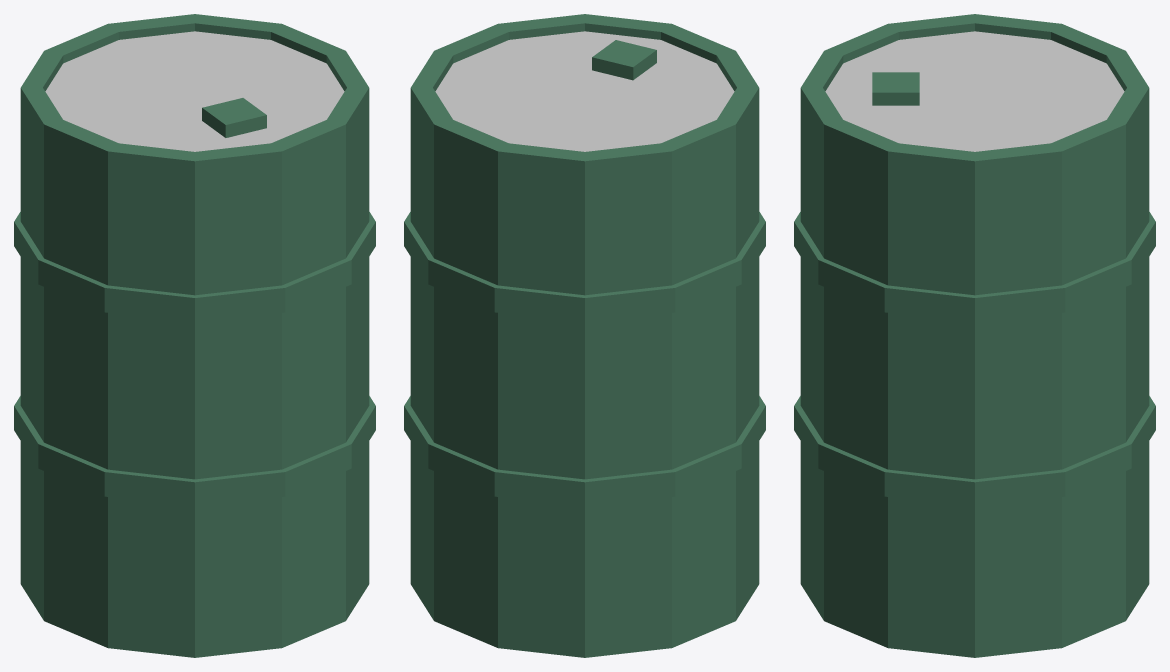
File: Barrel_03.glb
3 renders of one model, left to right at view 1: azimuth 30°, elevation 25°; view 2: azimuth 150°, elevation 25°; view 3: azimuth 270°, elevation 25°, orthographic.
Visible parts, largest first — view 1: Barrel_3_mesh; view 2: Barrel_3_mesh; view 3: Barrel_3_mesh.
Part boxes in pixels (left/top/right/bottom): Barrel_3_mesh: left=14, top=14, right=375, bottom=657; Barrel_3_mesh: left=404, top=14, right=765, bottom=657; Barrel_3_mesh: left=794, top=14, right=1155, bottom=657.
Size of the model in its own units: 0.575 by 0.88 by 0.575.
Materials: 1 (1 with a texture image).
